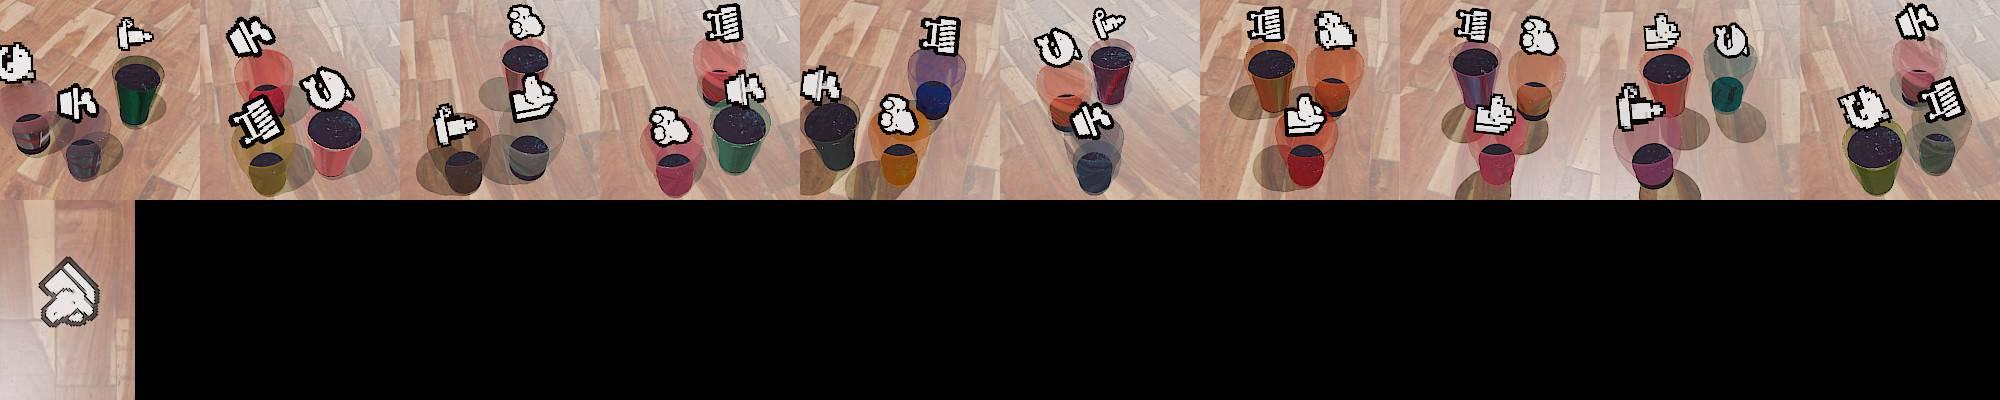icon: (36, 256, 101, 330), (230, 92, 286, 148), (298, 65, 355, 112), (509, 71, 560, 122), (1837, 84, 1890, 130), (1616, 82, 1665, 131), (432, 99, 480, 149), (1920, 75, 1967, 124), (226, 15, 277, 60), (1066, 97, 1115, 139), (1473, 90, 1518, 135), (1034, 25, 1082, 68), (649, 104, 693, 148), (1284, 90, 1327, 135), (878, 92, 920, 136), (1314, 9, 1357, 51), (1518, 14, 1560, 57), (55, 83, 101, 122), (723, 68, 767, 108), (702, 3, 742, 45), (918, 14, 960, 55), (800, 65, 843, 104), (1894, 3, 1939, 41), (0, 41, 37, 85), (1712, 20, 1751, 60), (1643, 11, 1681, 52), (1246, 5, 1286, 43), (506, 3, 546, 41), (1454, 6, 1491, 45), (116, 17, 154, 52), (1092, 8, 1126, 41)
